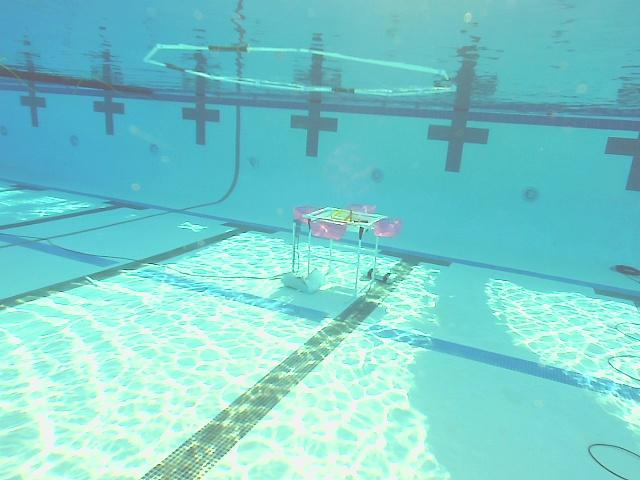table: (284, 204, 402, 304)
